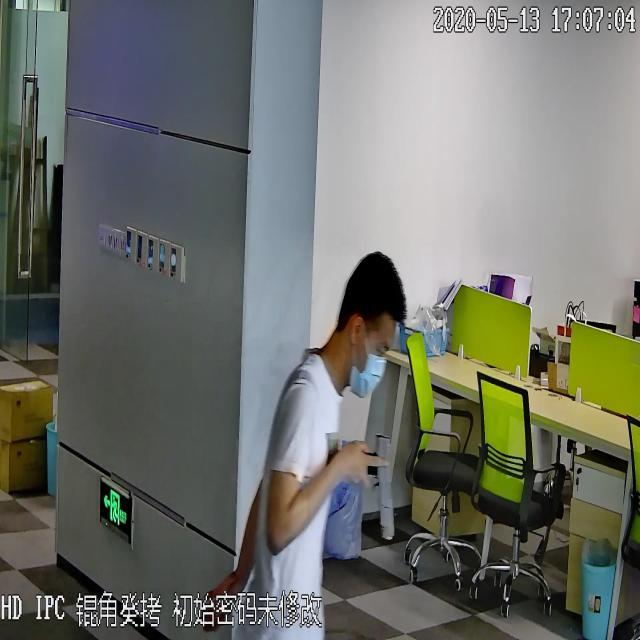gun-knife-thesis - v11 Yolov5 augmented: (349, 426, 397, 548)
